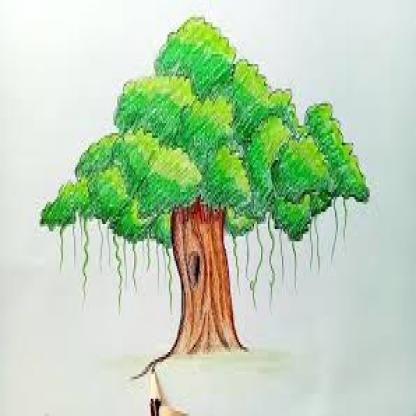crown_cloud: (37, 19, 371, 252)
knot: (186, 248, 202, 291)
root_upside: (131, 322, 254, 400)
trunk_bark: (171, 244, 235, 330)
